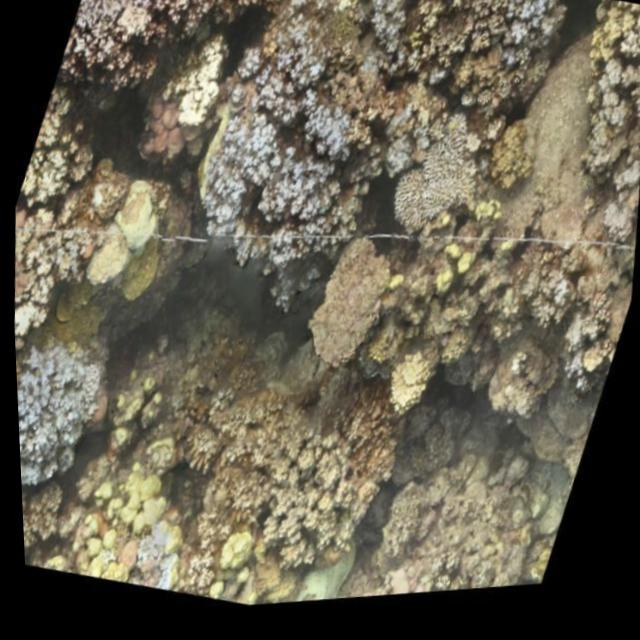Bleached Coral: (170, 26, 368, 296), (12, 327, 129, 519), (382, 130, 484, 256), (127, 516, 196, 600)
